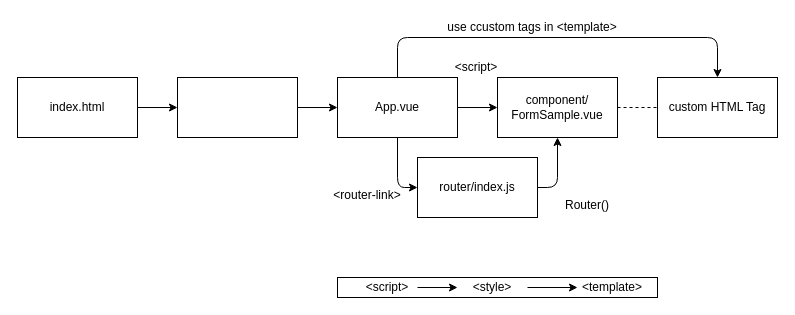
This 795x315 diagram has some shape labels left out. The box of each missing label's shape, as (x1, y1, x2, y2) in pixels:
*.vue loading order: (336, 276, 658, 298)
main.js: (176, 76, 298, 138)
